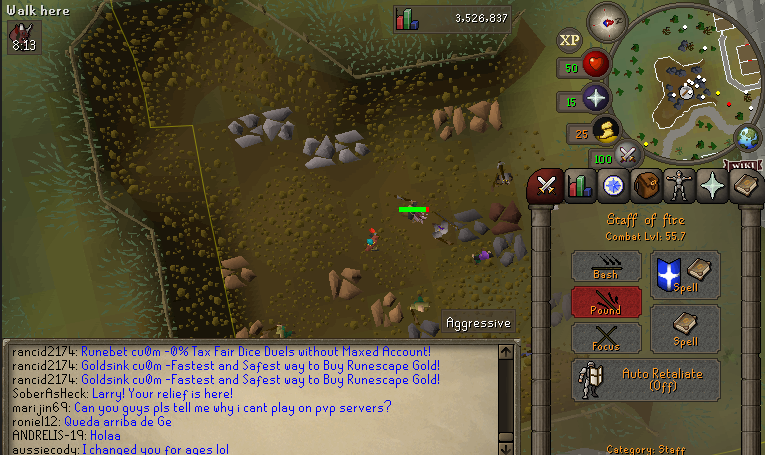depleted: (448, 204, 492, 248), (489, 227, 530, 270), (402, 313, 445, 340)
iron: (487, 196, 526, 240)
